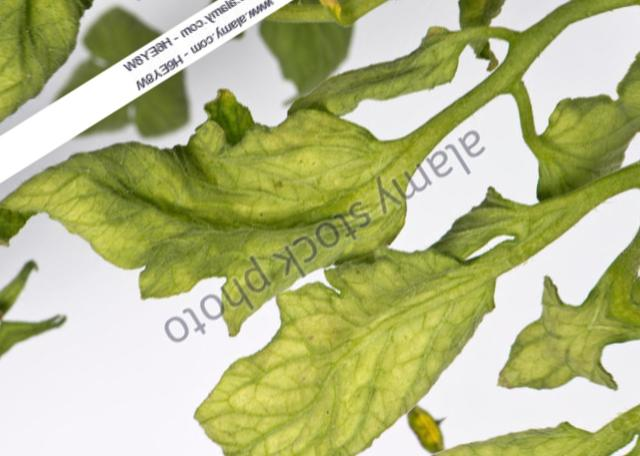Tomato leaf mosaic virus: (0, 0, 463, 437), (145, 163, 575, 456)
